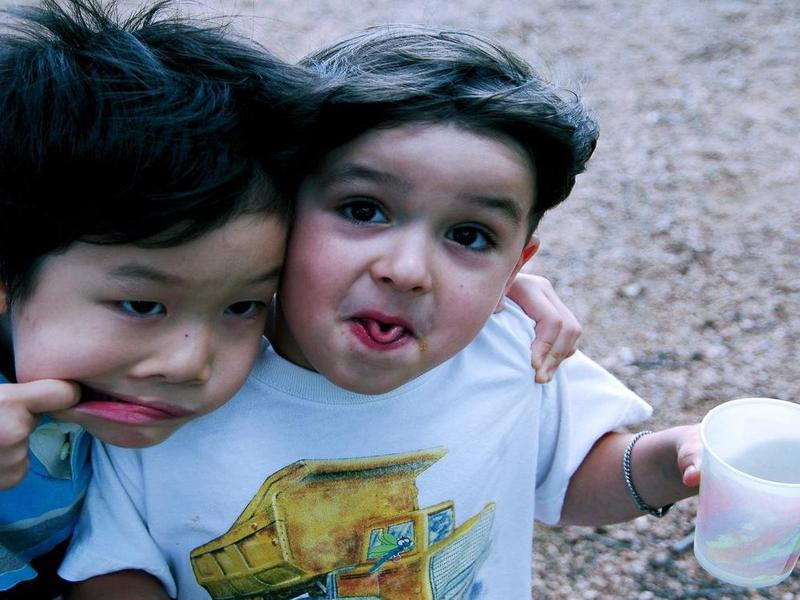person: (62, 28, 793, 600), (1, 7, 282, 600)
